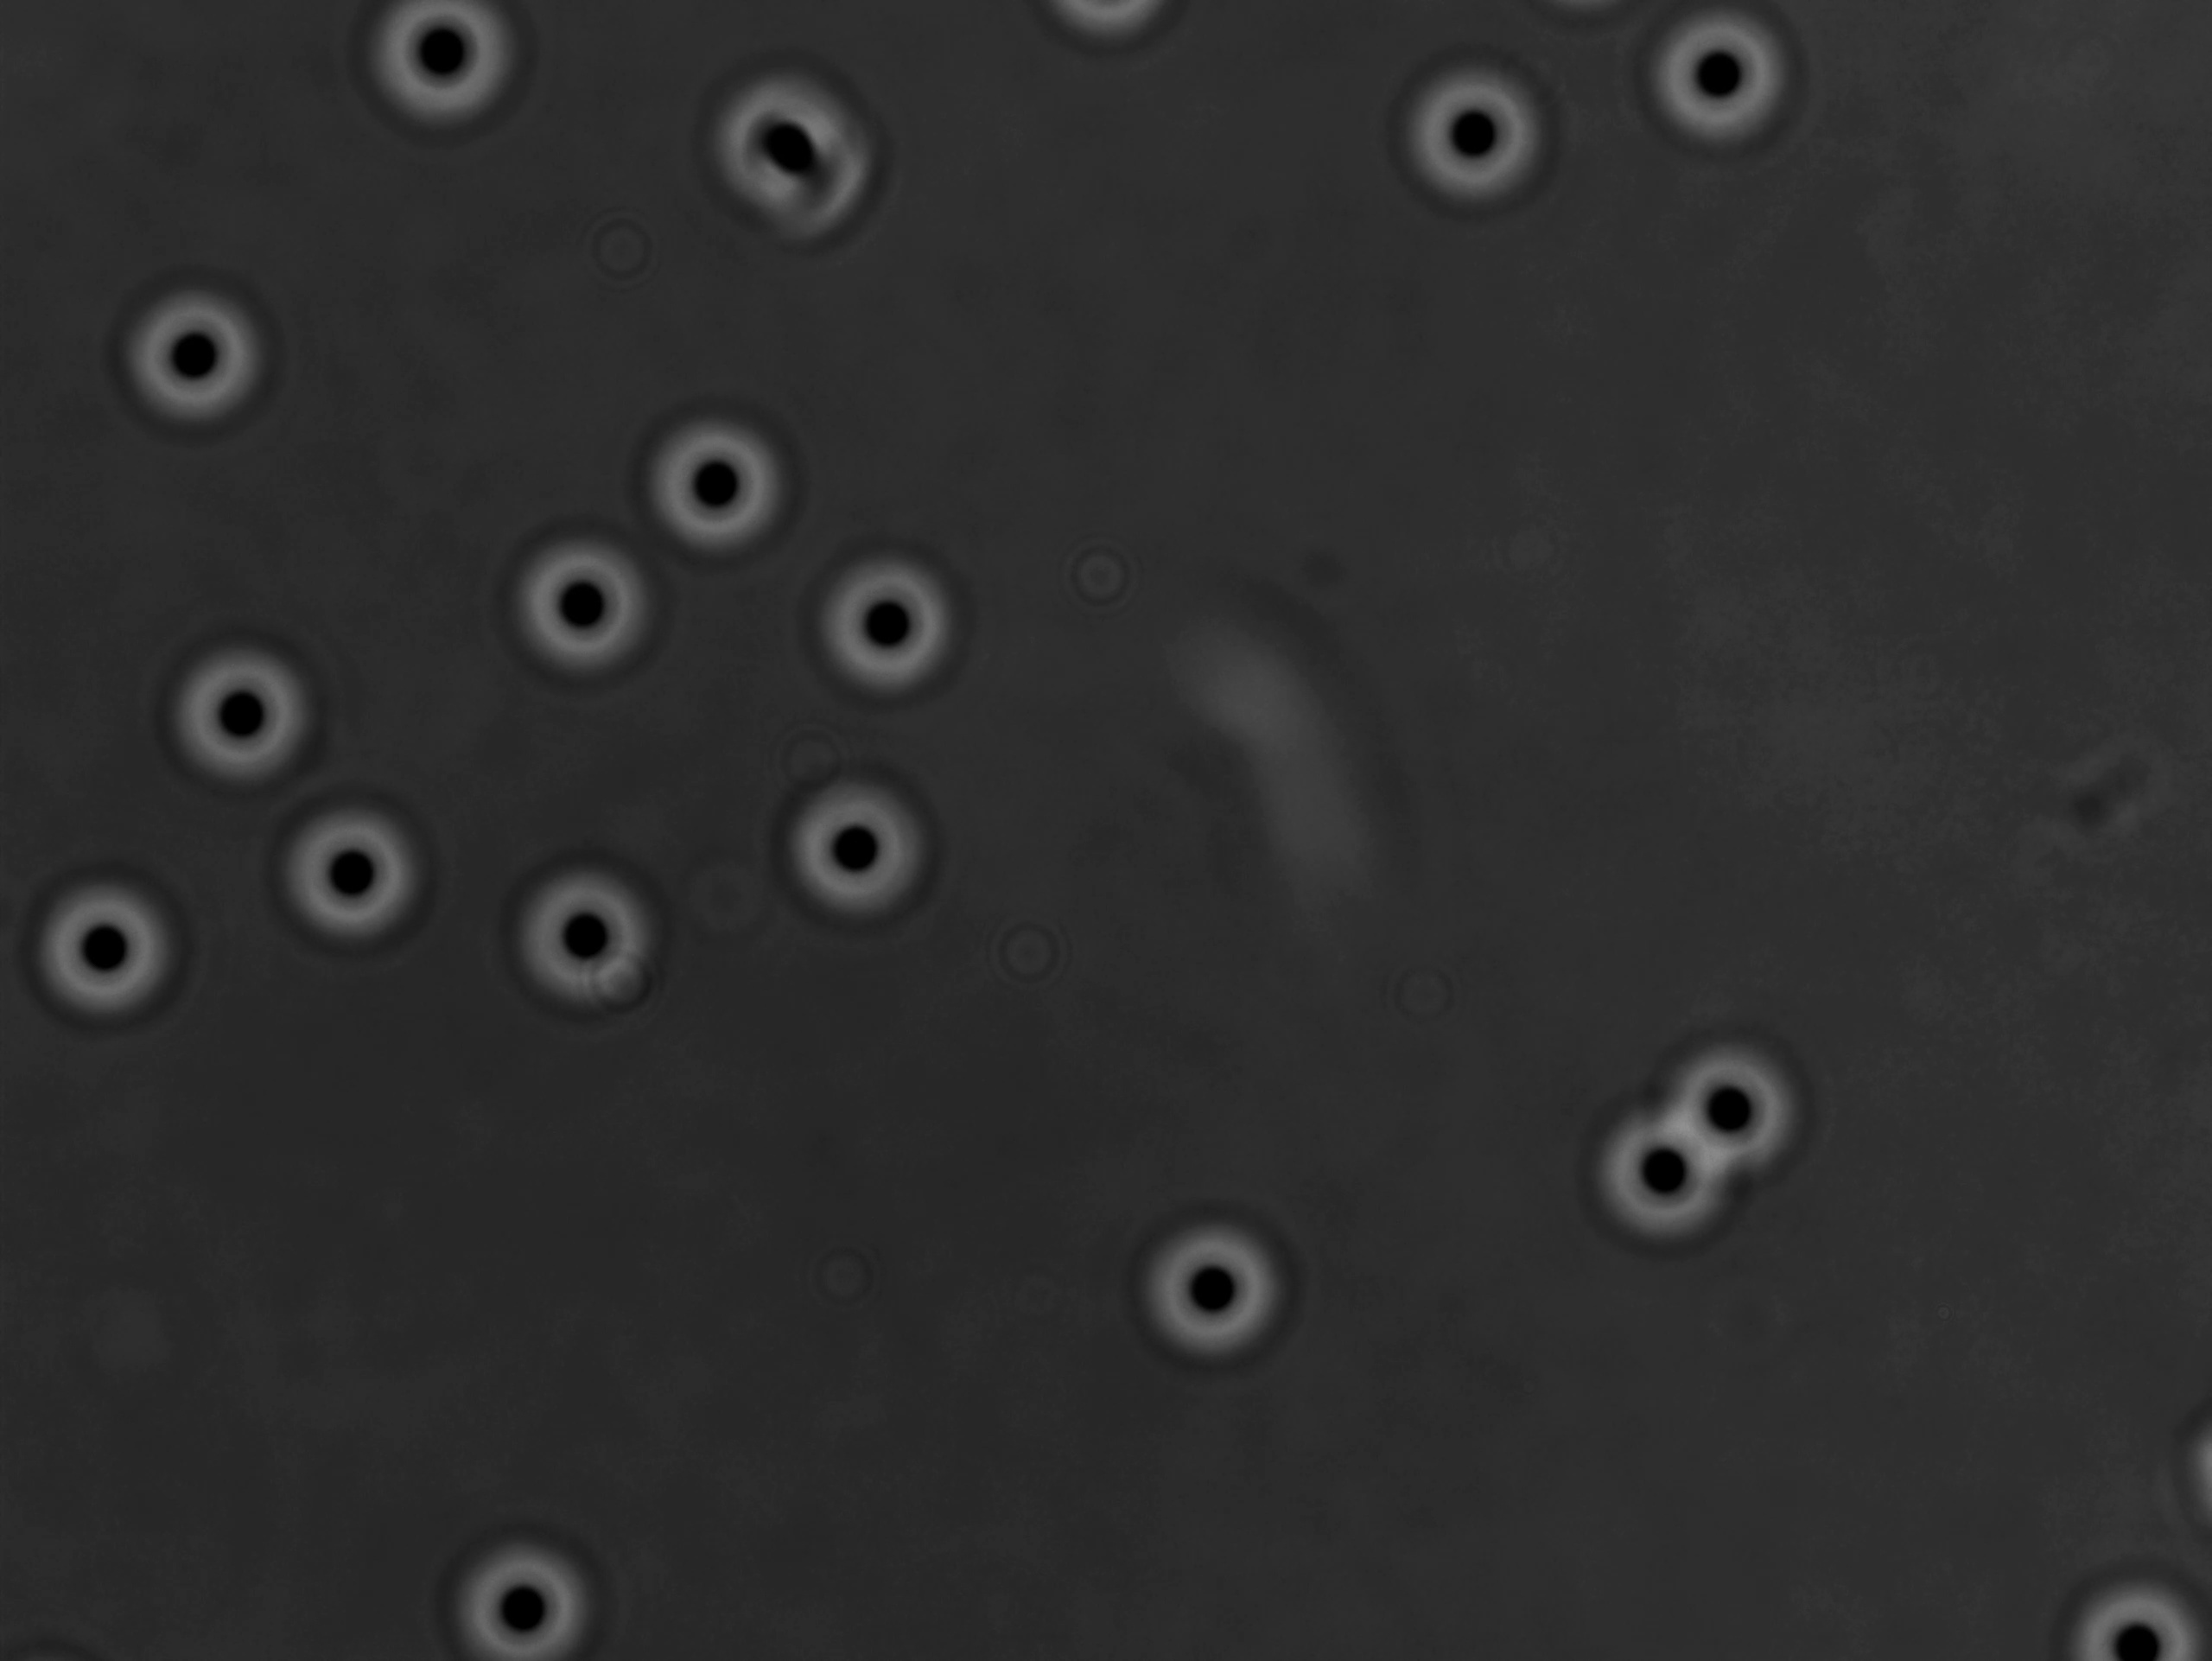depth:-40: (1127, 1213, 1314, 1375), (105, 265, 274, 443), (775, 764, 935, 926), (1647, 1026, 1807, 1181), (1647, 3, 1804, 159), (635, 398, 790, 553), (21, 867, 174, 1021), (159, 630, 314, 782), (1399, 63, 1551, 216), (277, 792, 420, 946), (809, 553, 959, 694), (509, 865, 652, 1010), (1591, 1106, 1729, 1244), (448, 1530, 593, 1661)
